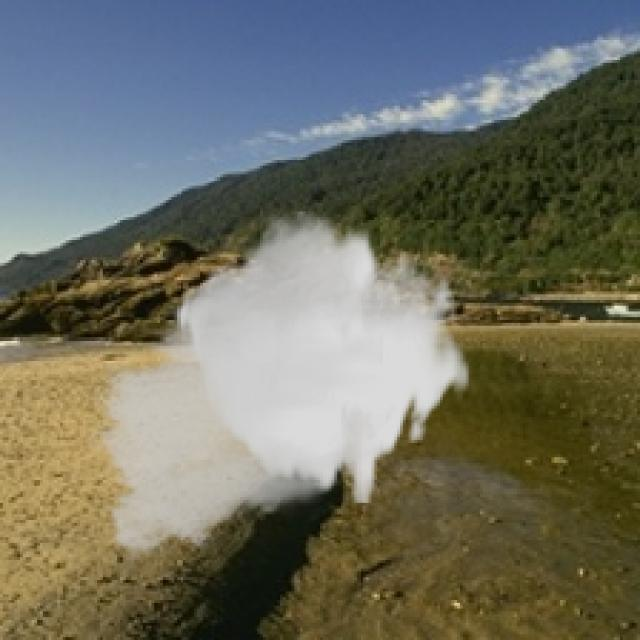Smoke: (86, 212, 472, 572)
